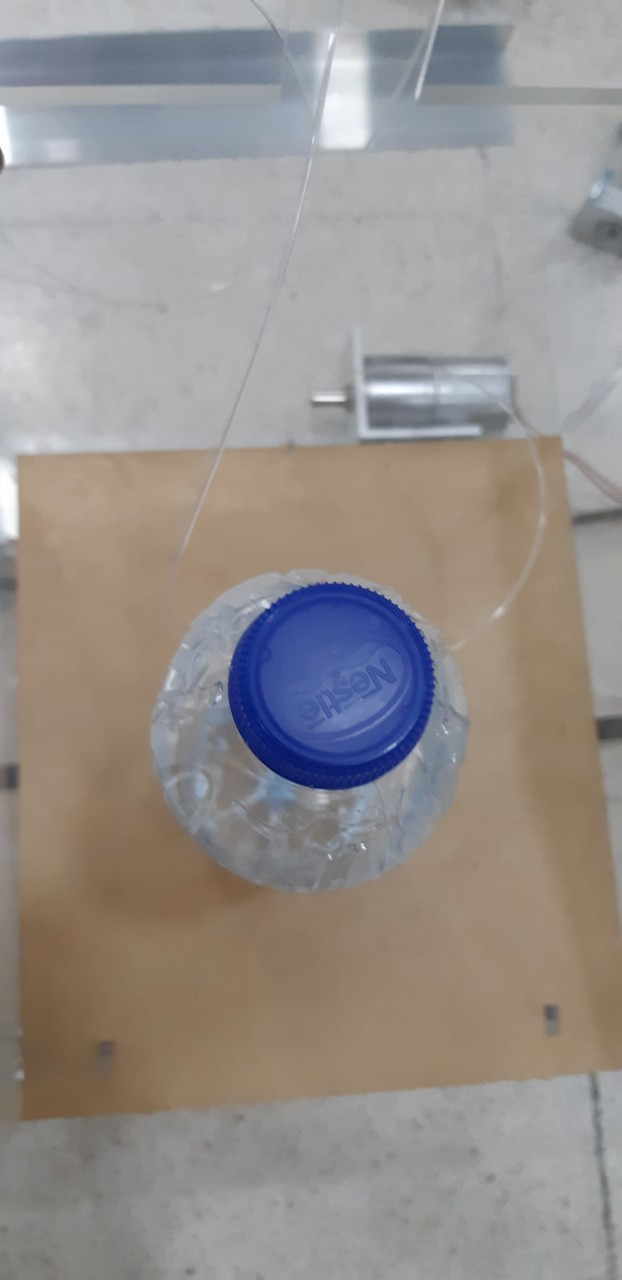PlasticBottle: (156, 569, 464, 897)
